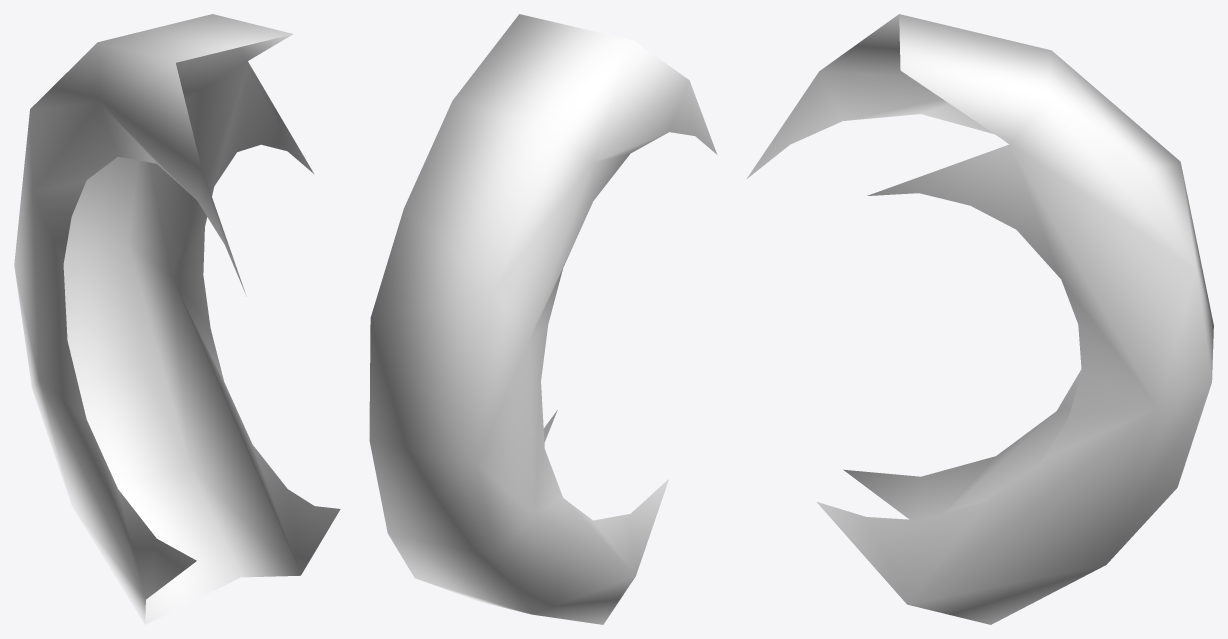
3 renders of one model, left to right at view 1: azimuth 30°, elevation 25°; view 2: azimuth 150°, elevation 25°; view 3: azimuth 270°, elevation 25°, orthographic. The views are drawn at different scales.
Bounding box in the file's own units: 0.1591 × 0.6097 × 0.4567.
1 material, 1 textured.
